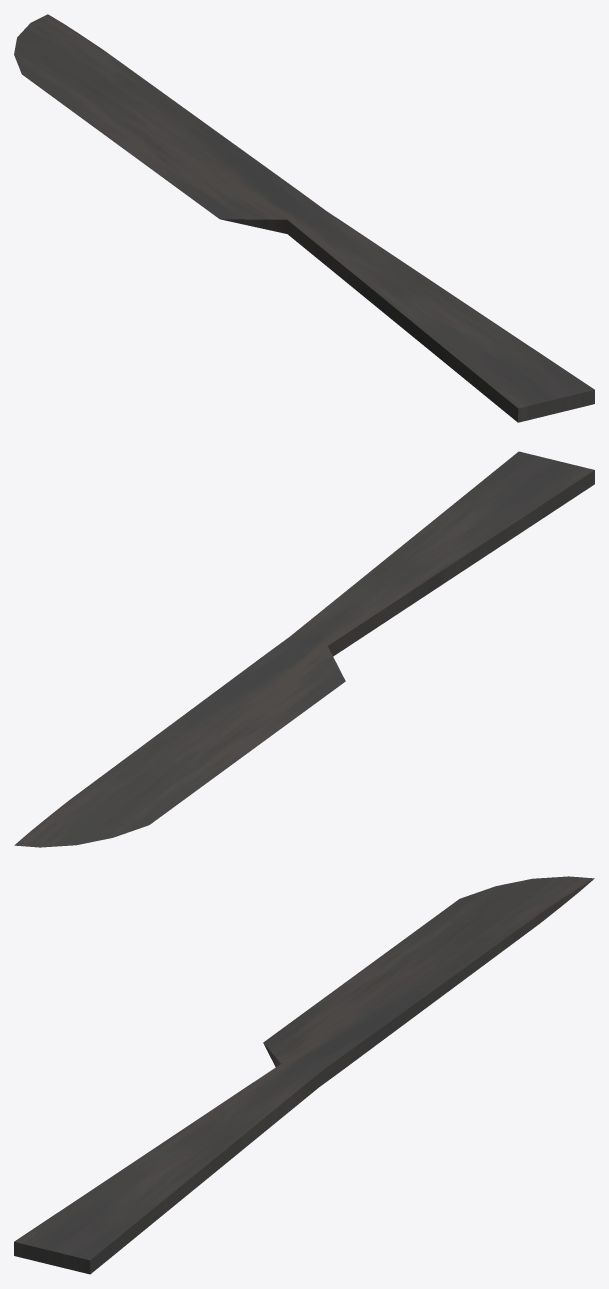
File: Dw_Knife.glb
3 views of the same model, one above another, from view 1: azimuth 30°, elevation 25°; view 2: azimuth 150°, elevation 25°; view 3: azimuth 330°, elevation 25° (orthographic).
Visible parts, largest first — view 1: Dw_Knife; view 2: Dw_Knife; view 3: Dw_Knife.
Part boxes in pixels (x1,y1,x2,y2): Dw_Knife: (14, 14, 594, 422); Dw_Knife: (14, 451, 594, 847); Dw_Knife: (14, 876, 594, 1274).
Bounding box in the file's own units: 0.0258 × 0.00376 × 0.2347.
Materials: 1 (1 with a texture image).
